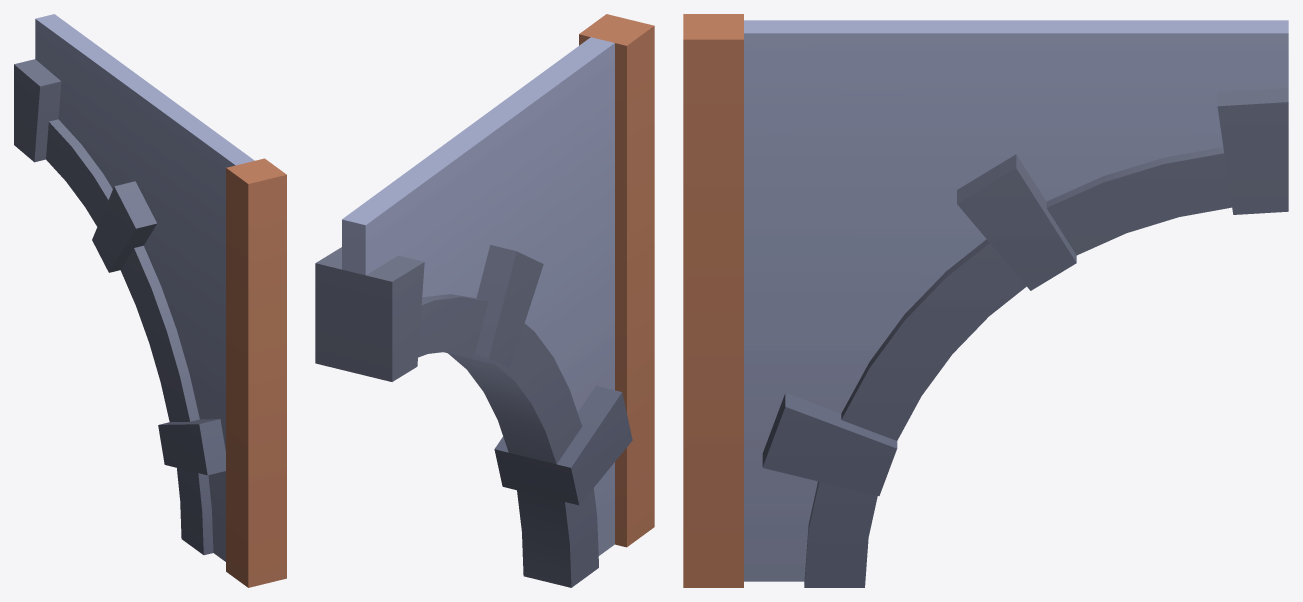
Rendered from wall-arch-top-detail.glb.
The picture shows the model from 3 angles, left to right: view 1: azimuth 30°, elevation 25°; view 2: azimuth 150°, elevation 25°; view 3: azimuth 270°, elevation 25°; orthographic projection. The views are drawn at different scales.
Visible parts, largest first — view 1: wall-arch-top-detail; view 2: wall-arch-top-detail; view 3: wall-arch-top-detail.
Boxes of the visible parts, x1,y1,x2,y2 form: wall-arch-top-detail: (14, 14, 286, 587); wall-arch-top-detail: (315, 14, 654, 587); wall-arch-top-detail: (683, 14, 1288, 587).
Bounding box in the file's own units: 0.16 × 1 × 1.
1 material, 1 textured.
